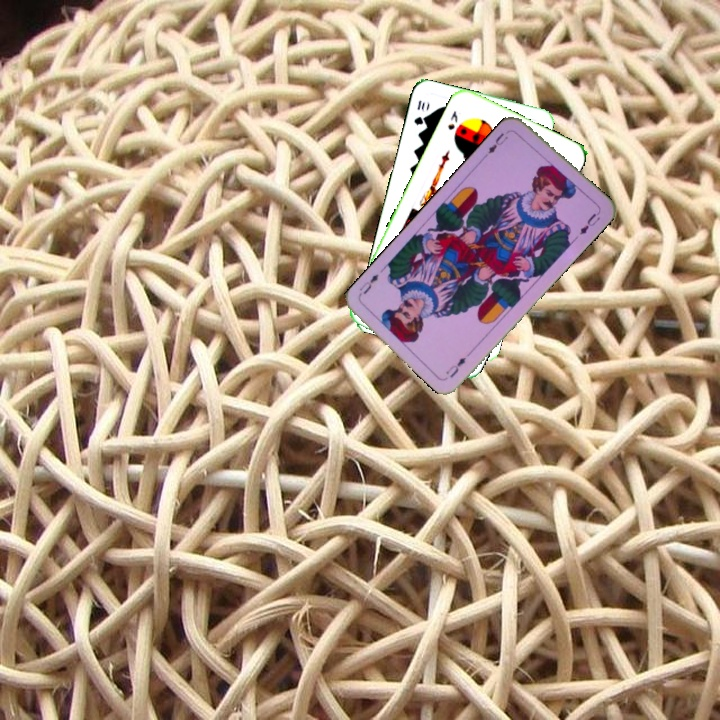EU: (442, 347, 475, 381), (480, 129, 511, 159)
G10: (410, 96, 428, 128)
SK: (444, 106, 460, 133)
